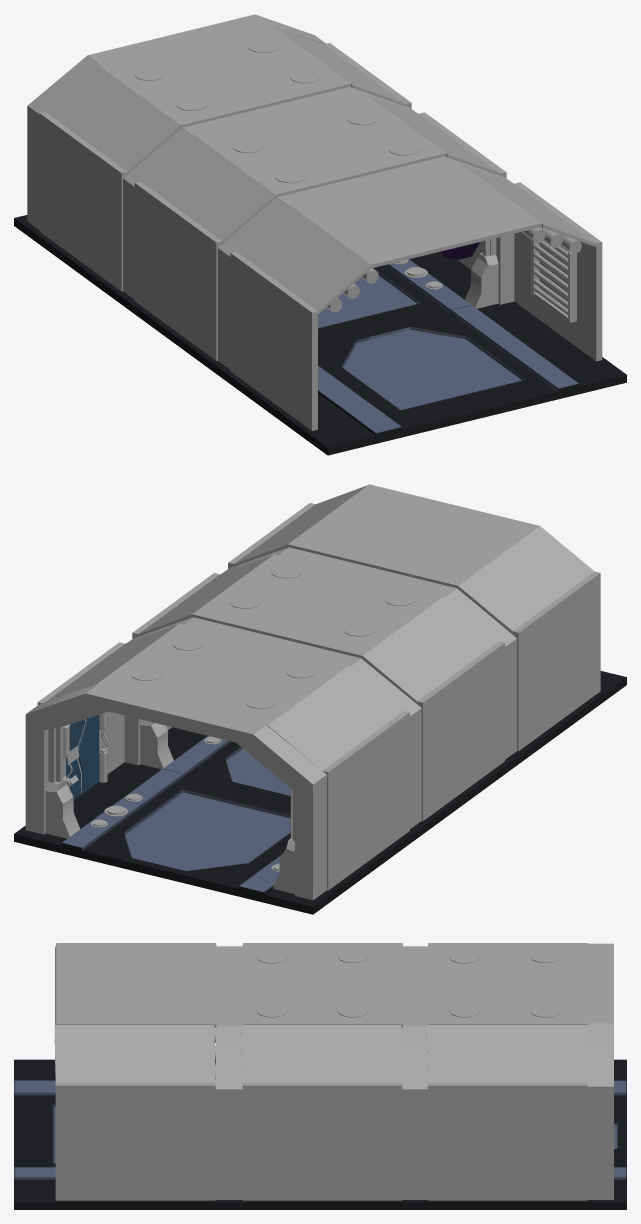
The model's file is full set spawn.fbx.
3 views of the same model, one above another, from view 1: azimuth 30°, elevation 25°; view 2: azimuth 150°, elevation 25°; view 3: azimuth 270°, elevation 25° (orthographic). The views are drawn at different scales.
Parts seen in each view (by area): view 1: sides_base3, sides_base, sides_base2, bottom_floor2, door_ark2 (×3), bottom_floor, vent_window, bottom_floor1; view 2: sides_base3, sides_base, sides_base2, door_ark2 (×3), bottom_floor1, bottom_floor, door_door, bottom_floor2, door_frame, light_bar5; view 3: sides_base3, sides_base, sides_base2, door_ark2 (×3), bottom_floor2, bottom_floor1, bottom_floor.
Boxes of the visible parts, x1,y1,x2,y2 form: sides_base3: [230, 163, 602, 430]; sides_base: [134, 93, 506, 360]; sides_base2: [39, 24, 411, 291]; bottom_floor2: [223, 301, 626, 455]; door_ark2 (×3): [27, 14, 514, 369]; bottom_floor: [115, 252, 470, 378]; vent_window: [531, 240, 576, 324]; bottom_floor1: [14, 215, 127, 304]; sides_base3: [228, 484, 600, 751]; sides_base: [132, 554, 504, 820]; sides_base2: [37, 623, 409, 890]; door_ark2 (×3): [25, 547, 516, 900]; bottom_floor1: [14, 762, 420, 914]; bottom_floor: [125, 727, 518, 839]; door_door: [66, 714, 98, 800]; bottom_floor2: [512, 671, 626, 763]; door_frame: [63, 712, 107, 788]; light_bar5: [56, 710, 291, 837]; sides_base3: [54, 943, 216, 1200]; sides_base: [241, 943, 402, 1200]; sides_base2: [426, 943, 588, 1200]; door_ark2 (×3): [215, 943, 613, 1199]; bottom_floor2: [14, 1059, 224, 1209]; bottom_floor1: [416, 1059, 626, 1209]; bottom_floor: [218, 1200, 429, 1209].
Bounding box in the file's own units: 21.79 × 11.12 × 39.6.
Materials: 8 (3 with a texture image).
